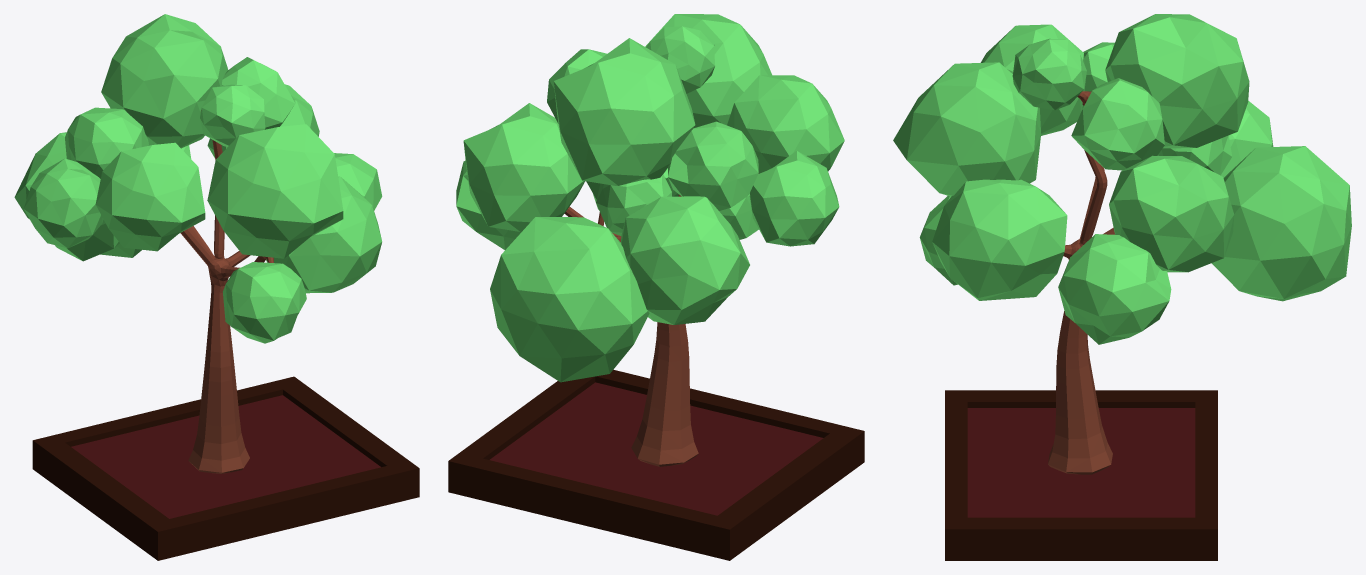
Rendered from Low-Poly Tree.dae.
3 views of the same model, side by side, from view 1: azimuth 30°, elevation 25°; view 2: azimuth 150°, elevation 25°; view 3: azimuth 270°, elevation 25° (orthographic). The views are drawn at different scales.
Parts seen in each view (by area): view 1: Cube, Icosphere, Icosphere.001, Icosphere.002, Plane; view 2: Icosphere, Cube, Icosphere.002, Icosphere.001, Plane; view 3: Icosphere, Cube, Icosphere.001, Icosphere.002, Plane.
Part boxes in pixels (x1=…): Cube: x1=32, y1=376, x2=419, y2=560; Icosphere: x1=14, y1=57, x2=343, y2=261; Icosphere.001: x1=65, y1=84, x2=382, y2=343; Icosphere.002: x1=23, y1=14, x2=319, y2=248; Plane: x1=180, y1=110, x2=273, y2=473; Icosphere: x1=490, y1=14, x2=844, y2=382; Cube: x1=448, y1=369, x2=864, y2=560; Icosphere.002: x1=463, y1=38, x2=839, y2=246; Icosphere.001: x1=456, y1=26, x2=758, y2=249; Plane: x1=564, y1=194, x2=698, y2=466; Icosphere: x1=893, y1=24, x2=1351, y2=301; Cube: x1=945, y1=390, x2=1217, y2=560; Icosphere.001: x1=919, y1=38, x2=1171, y2=344; Icosphere.002: x1=1082, y1=14, x2=1249, y2=272; Plane: x1=1048, y1=91, x2=1114, y2=474.
Bounding box in the file's own units: 9.31 × 9.85 × 11.04.
